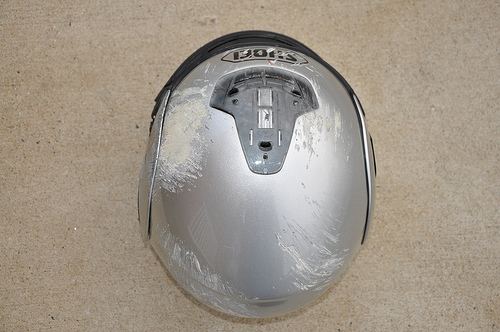helmet: (145, 44, 370, 299)
